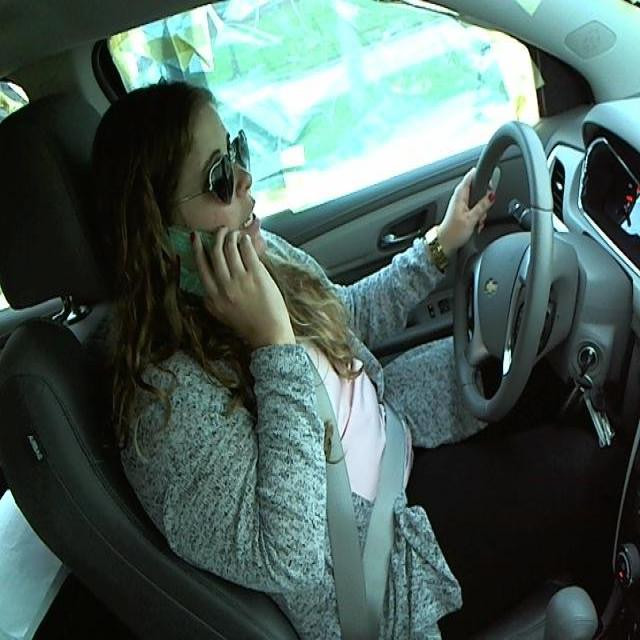using_phone: (91, 60, 292, 333)
